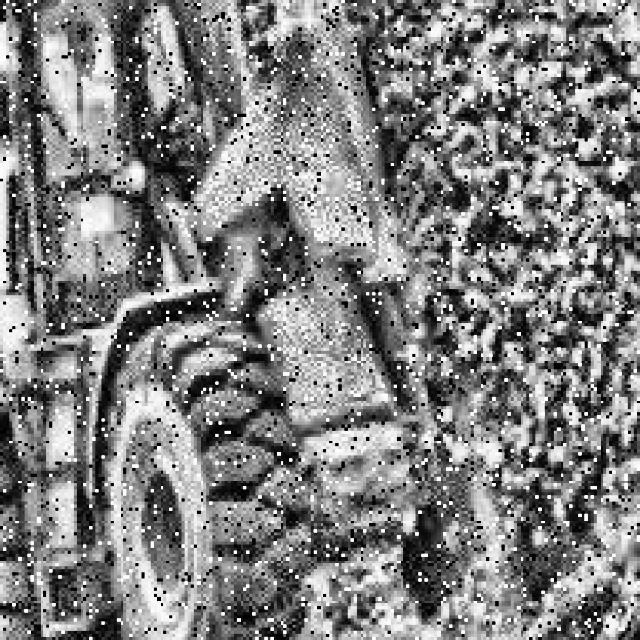buldozerpayloadergrader: (0, 0, 406, 640)
